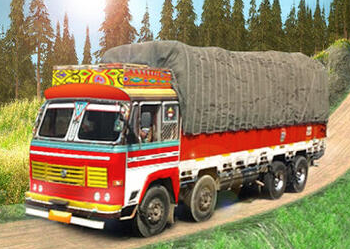truck: (29, 37, 331, 240)
